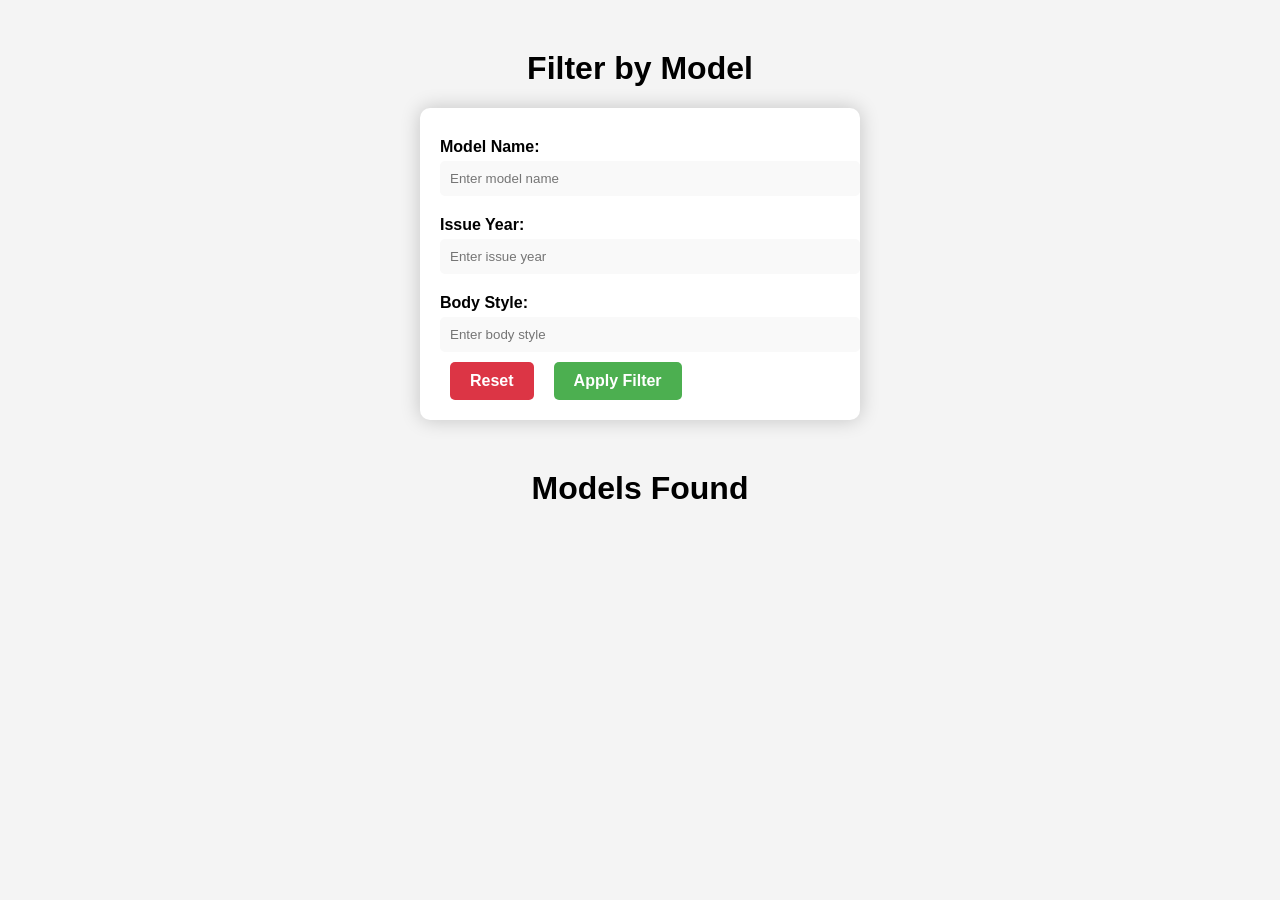
Test: ModelTab › filters model instances based on input values
Note: Fill in the filter values
In the field labelled "Model Name:": (650, 179) x1=440 y1=161 x2=860 y2=196, type "Octavia"
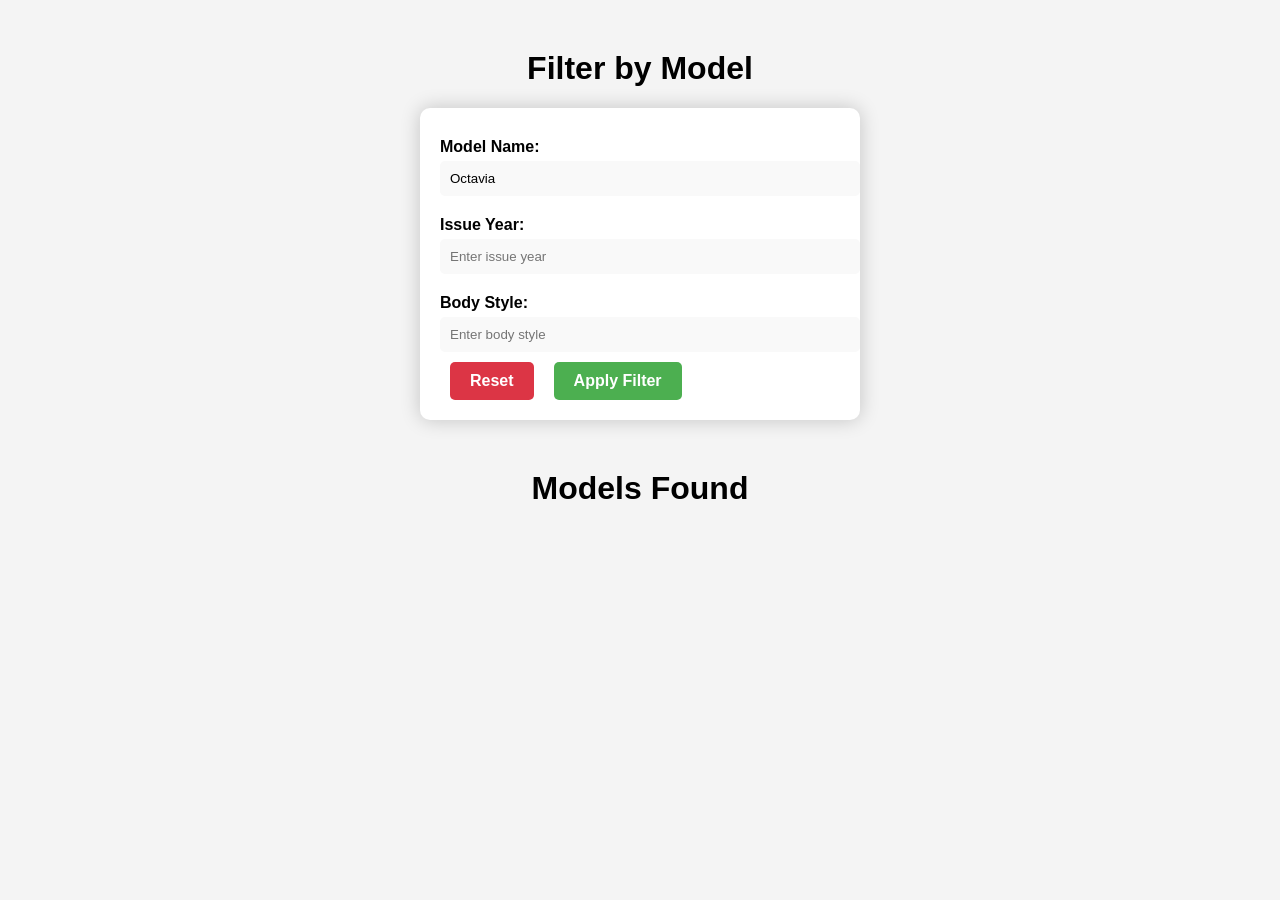
In the number field labelled "Issue Year:": (650, 257) x1=440 y1=239 x2=860 y2=274, type "2017"
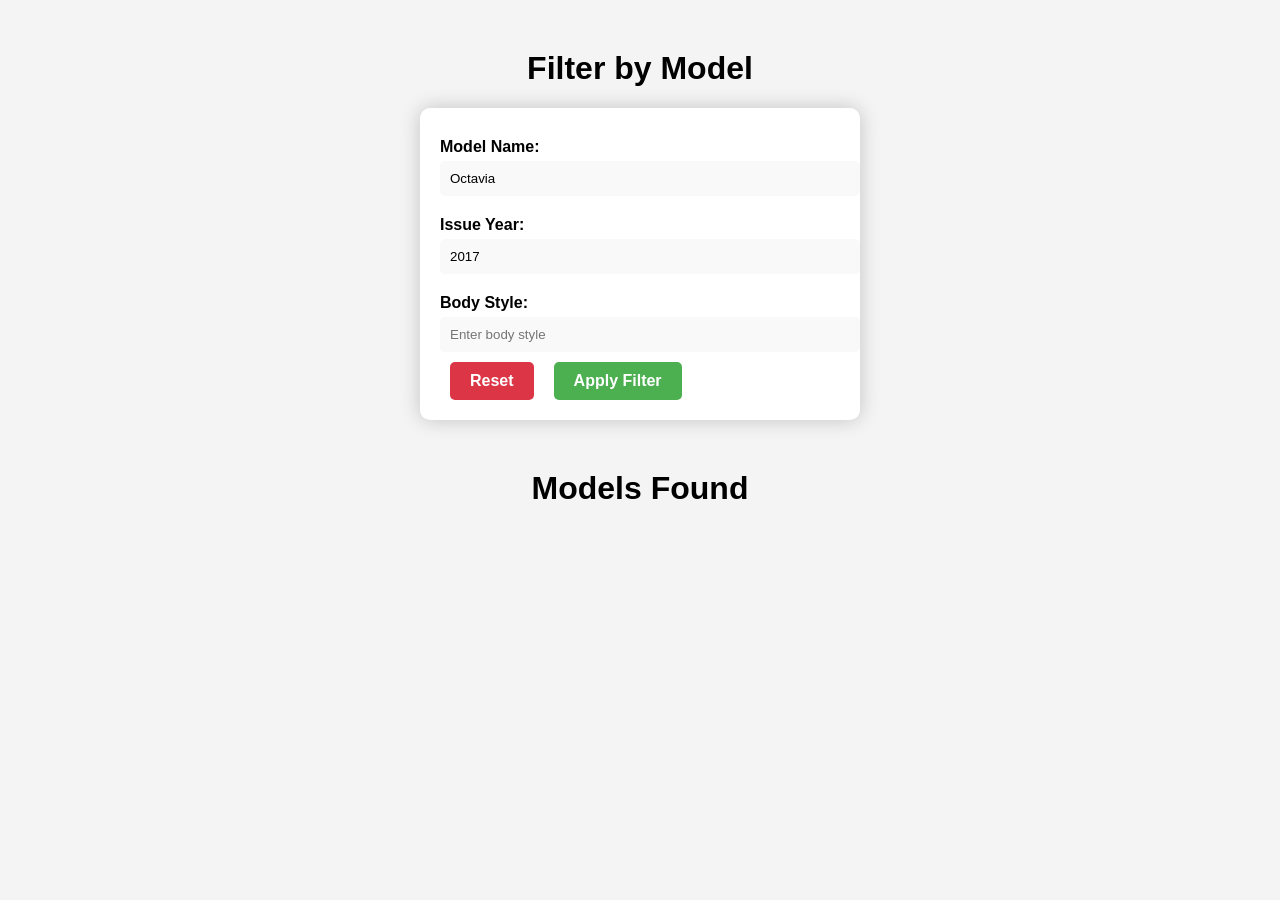
In the field labelled "Body Style:": (650, 335) x1=440 y1=317 x2=860 y2=352, type "Sedan"
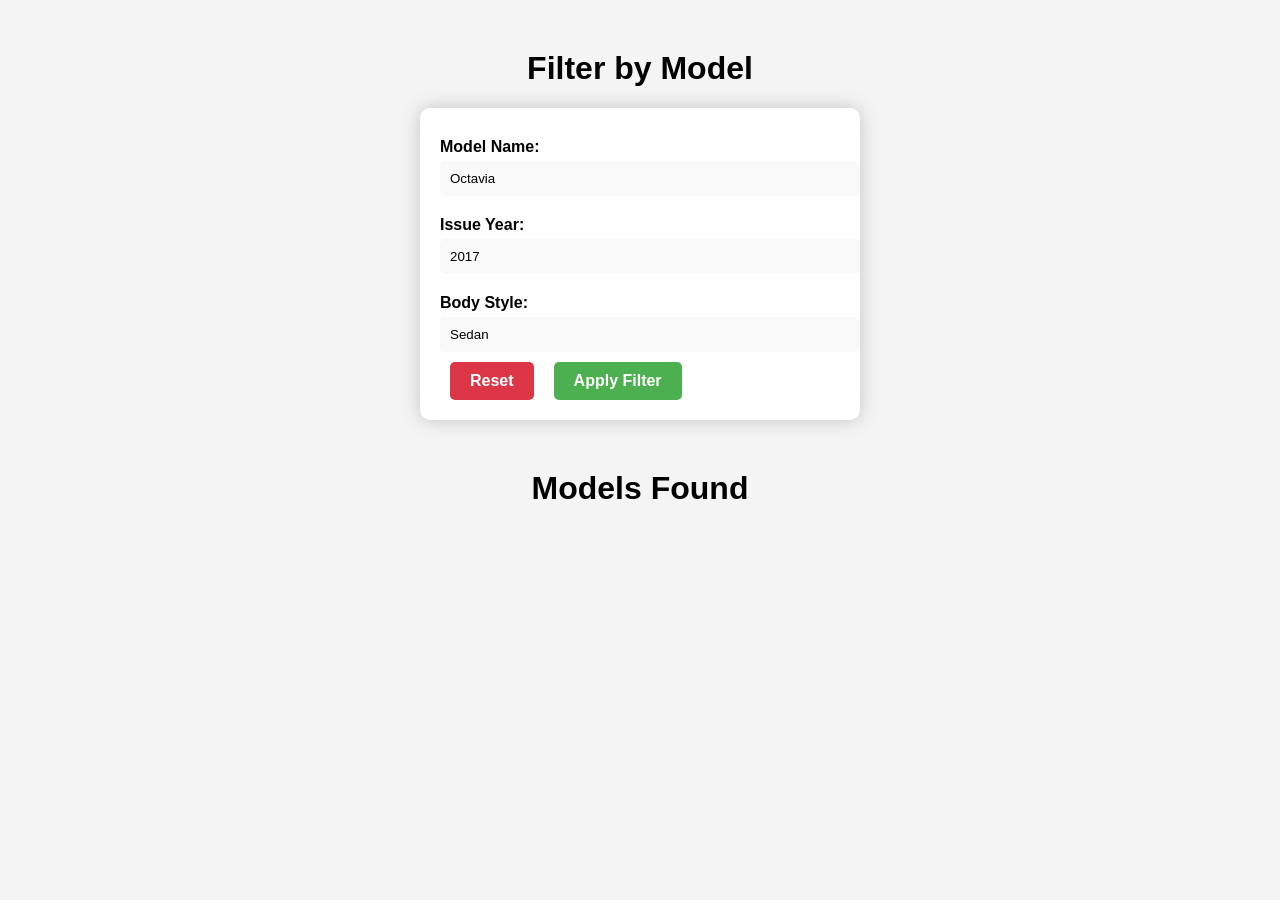
Note: Click the filter button
Click the button "Apply Filter": (618, 381) x1=554 y1=362 x2=682 y2=400
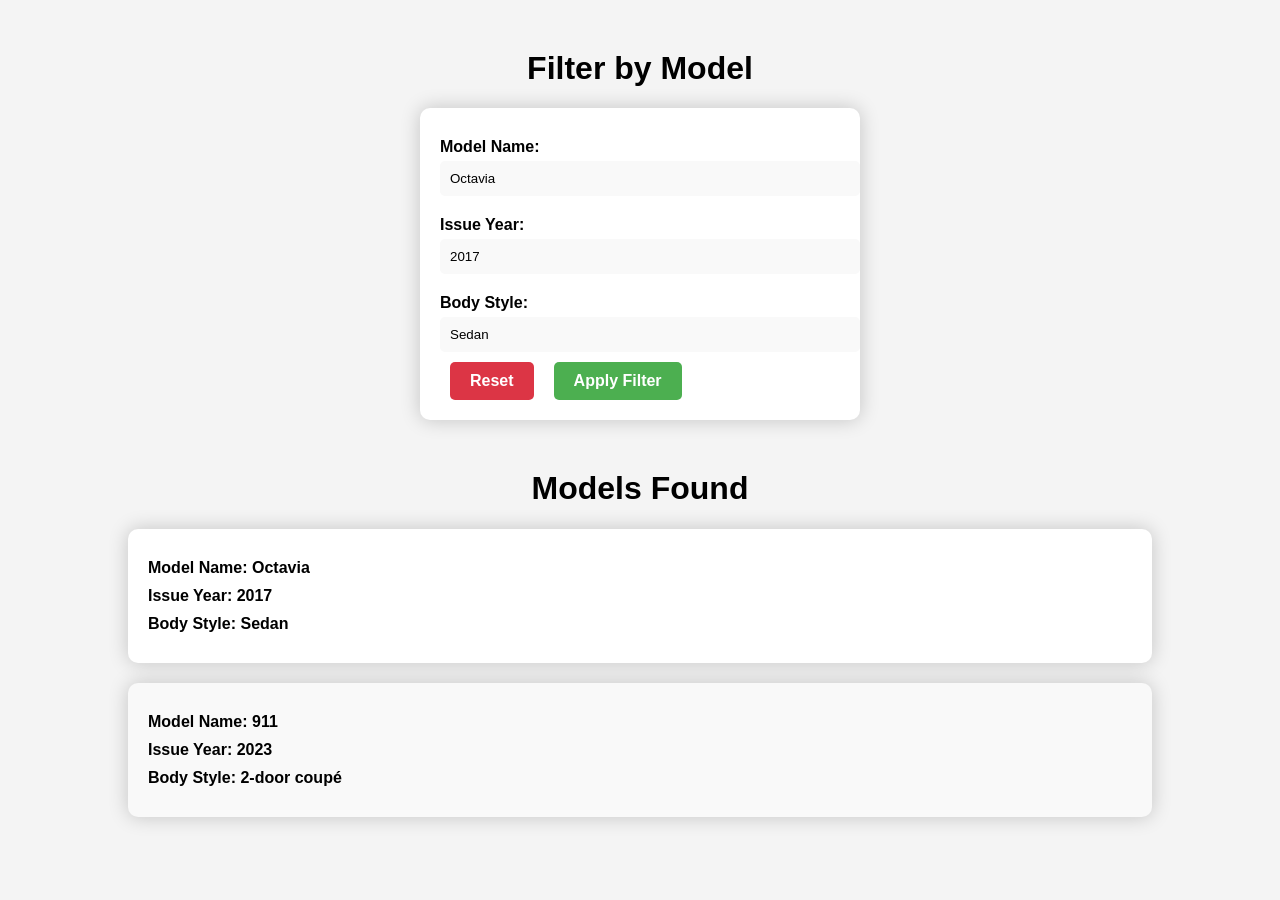
Expected: the text "Model Name: Octavia" is shown, x1=148 y1=559 x2=310 y2=576
